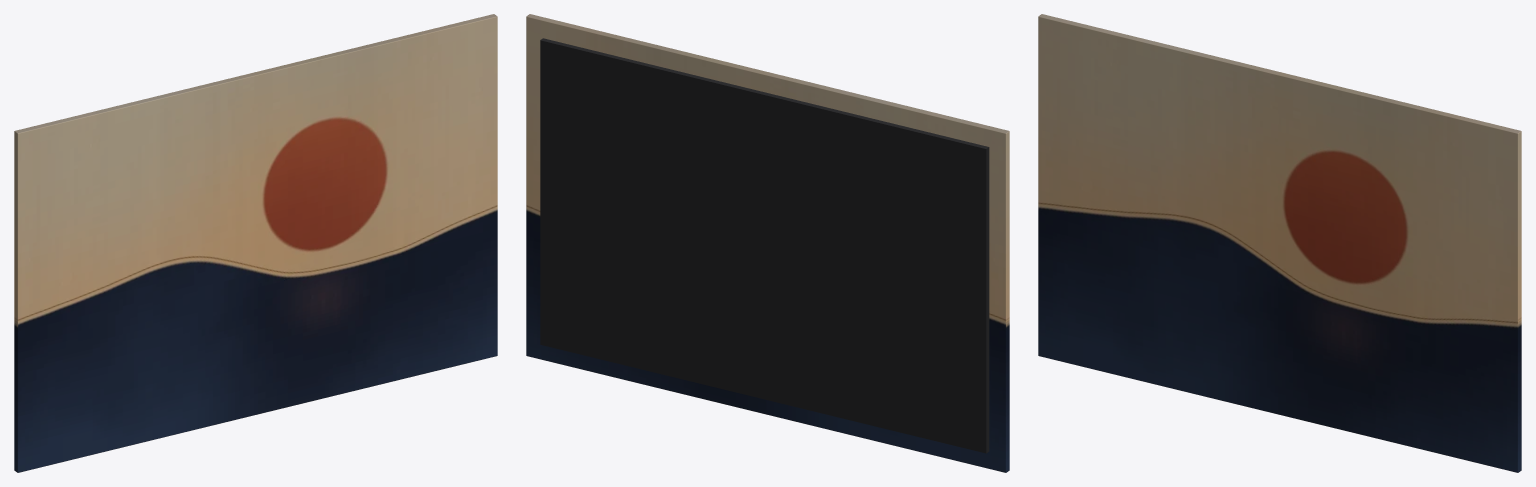
Rendered from entry_artwork.gltf.
The picture shows the model from 3 angles, left to right: view 1: azimuth 30°, elevation 25°; view 2: azimuth 150°, elevation 25°; view 3: azimuth 330°, elevation 25°; orthographic projection.
Parts seen in each view (by area): view 1: EntryArtwork_Canvas; view 2: EntryArtwork_Backer, EntryArtwork_Canvas; view 3: EntryArtwork_Canvas.
Part boxes in pixels (x1,y1,x2,y2): EntryArtwork_Canvas: (14,14,497,472); EntryArtwork_Backer: (540,38,989,453); EntryArtwork_Canvas: (526,14,1009,472); EntryArtwork_Canvas: (1038,14,1521,472).
Bounding box in the file's own units: 3.4 × 2.3 × 0.08.
2 materials, 1 textured.
